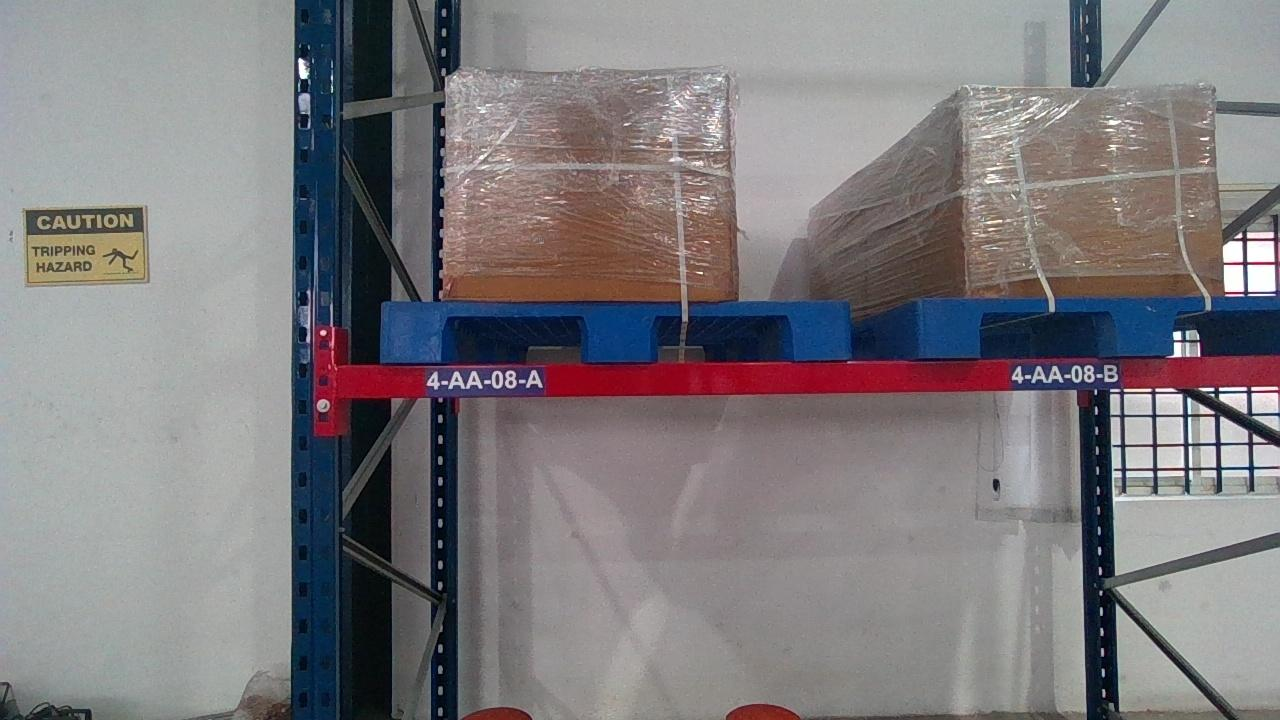h_rack: (336, 356, 1279, 394)
small_pallet: (378, 300, 849, 358), (918, 295, 1279, 352)
